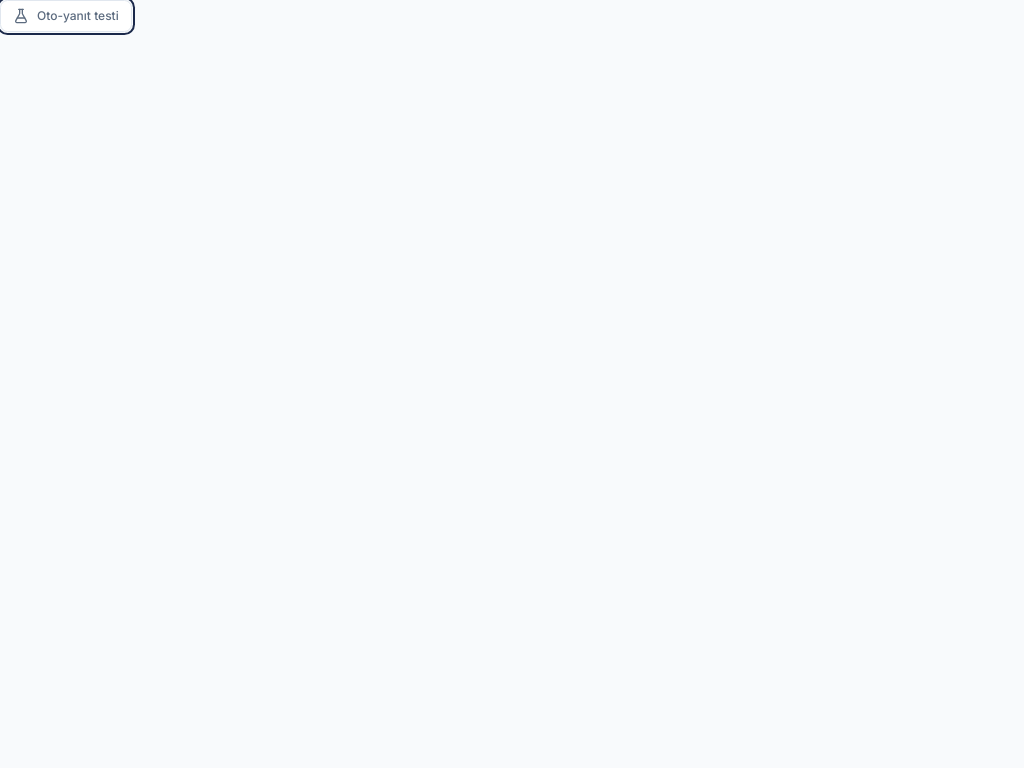
Test: AutoReplyTestButton — modal sözleşmesi › açılınca dialog + body scroll-lock; Escape kapatır, scroll geri gelir, focus tetikleyen butona döner
The width and height of the screenshot is (1024, 768).
Click the button "Oto-yanıt testi": (66, 16) x1=0 y1=0 x2=132 y2=32
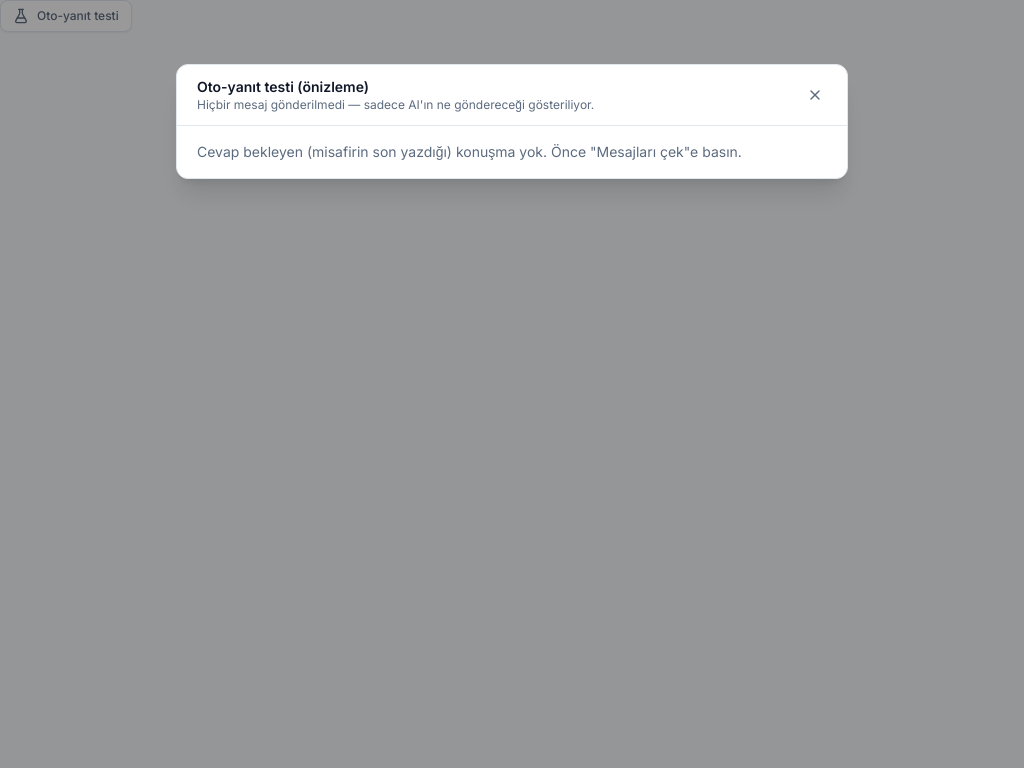
Press Escape
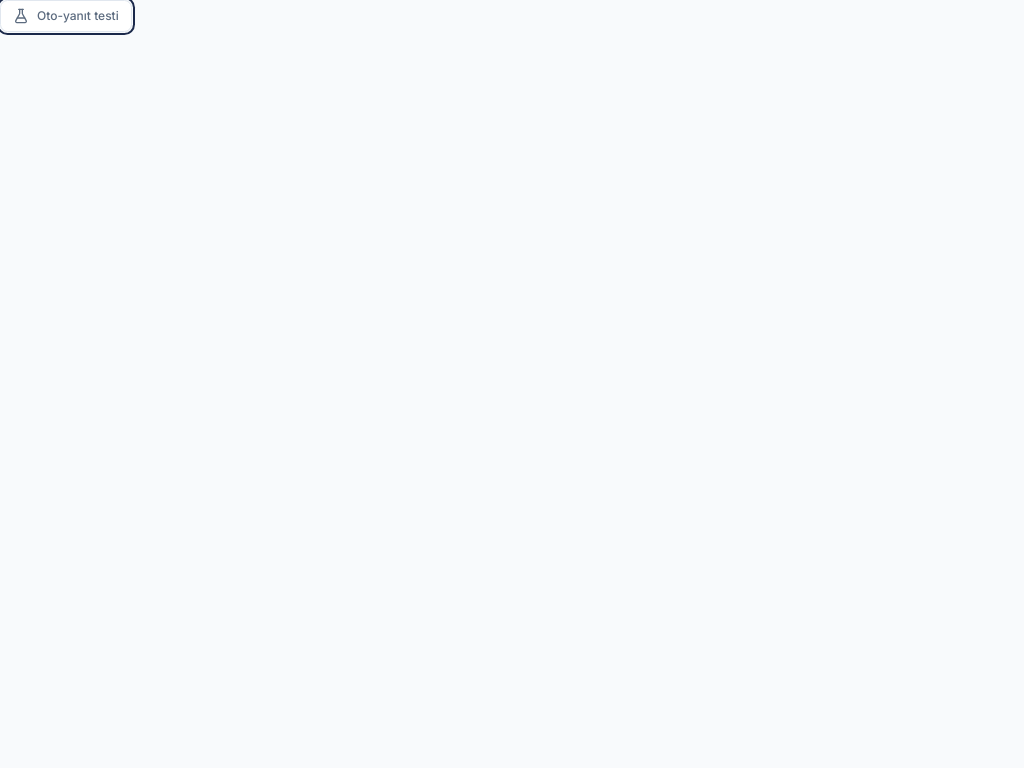
Result: the dialog is gone
